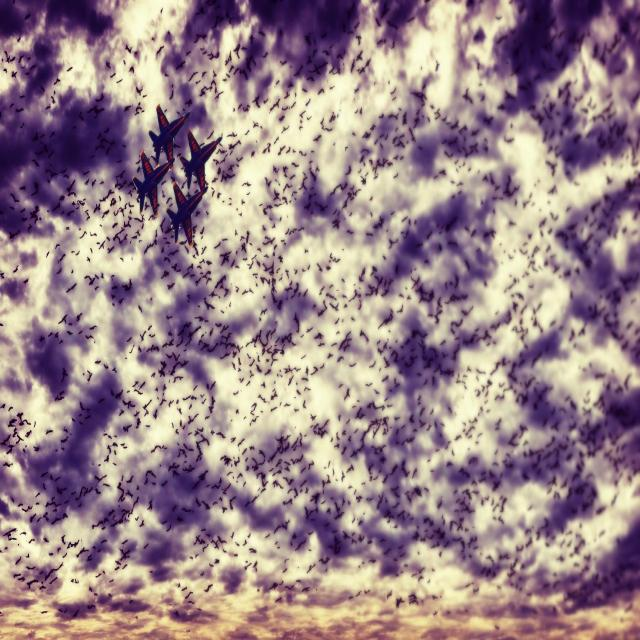airplane: (131, 149, 174, 218), (165, 178, 208, 245), (178, 129, 222, 191), (148, 104, 190, 165)
